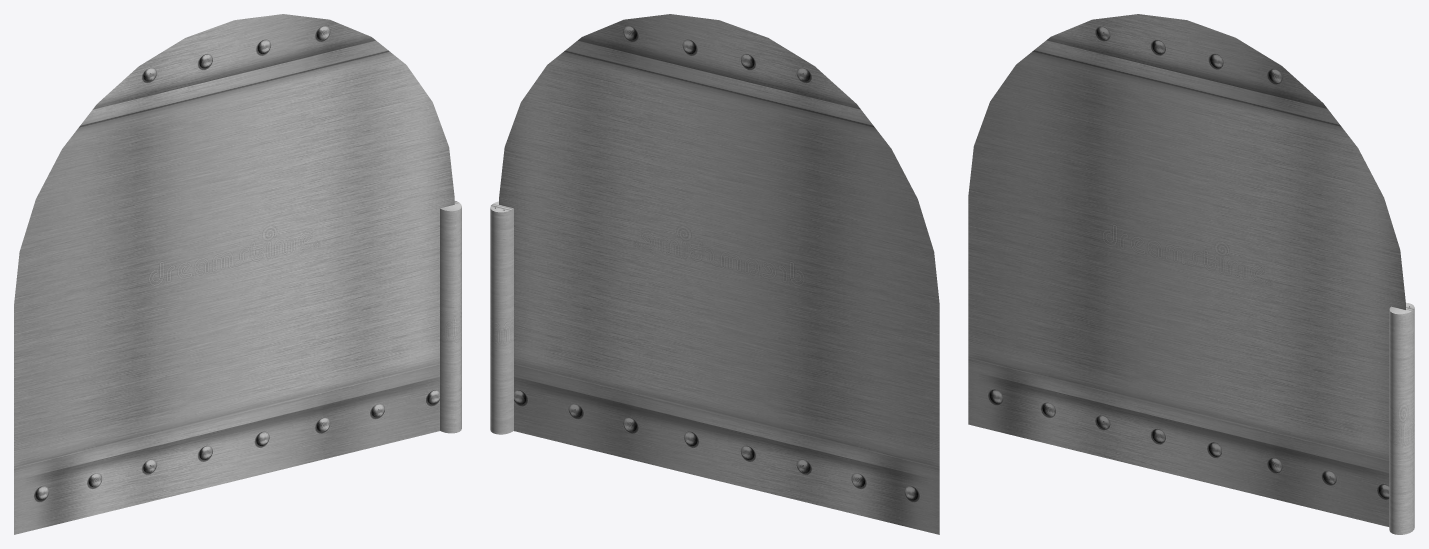
File: Puertas.obj
The picture shows the model from 3 angles, left to right: view 1: azimuth 30°, elevation 25°; view 2: azimuth 150°, elevation 25°; view 3: azimuth 330°, elevation 25°; orthographic projection.
Parts seen in each view (by area): view 1: Puertas:group3_pasted__pCylinder1; view 2: Puertas:group3_pasted__pCylinder1; view 3: Puertas:group3_pasted__pCylinder1.
Boxes of the visible parts, x1=… form: Puertas:group3_pasted__pCylinder1: x1=14, y1=14, x2=461, y2=534; Puertas:group3_pasted__pCylinder1: x1=490, y1=14, x2=939, y2=534; Puertas:group3_pasted__pCylinder1: x1=968, y1=14, x2=1414, y2=534.
Bounding box in the file's own units: 1.12 × 1.11 × 0.0634.
1 material, 1 textured.
